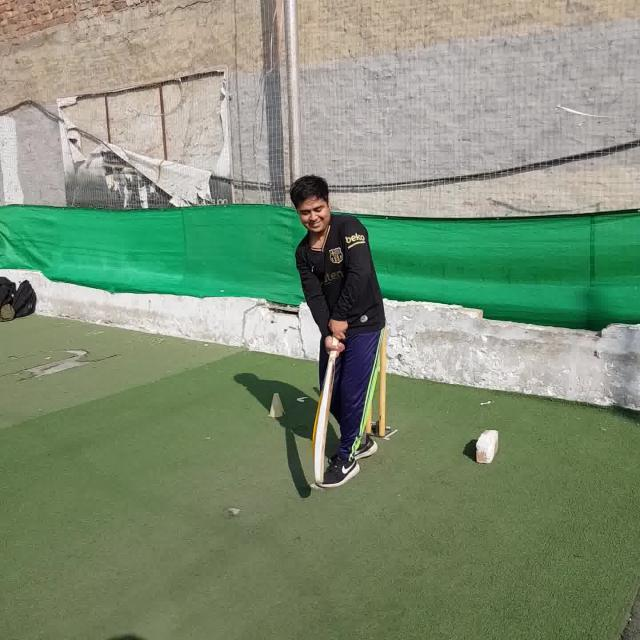bat: (312, 332, 341, 483)
